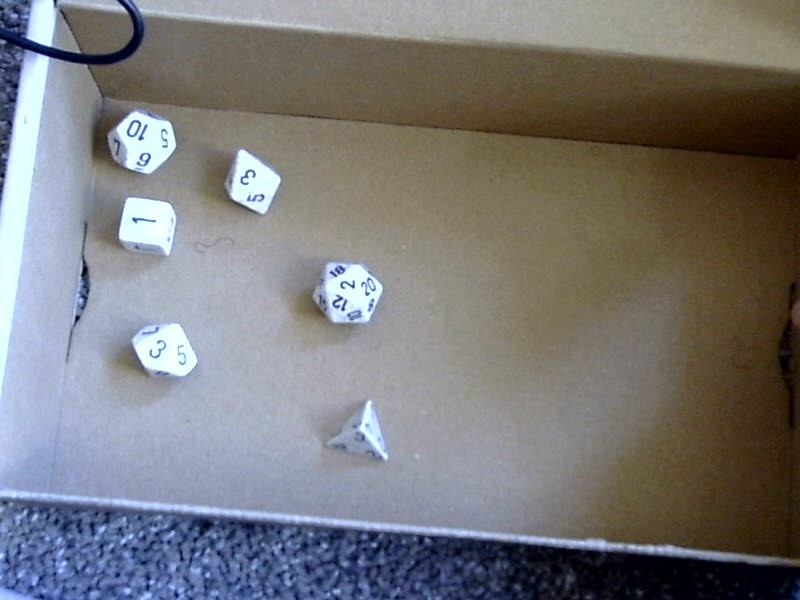d10 3: (125, 314, 206, 382)
d12 10: (99, 104, 179, 178)
d20 2: (309, 256, 384, 331)
d4 3: (322, 392, 393, 465)
d6 1: (114, 192, 179, 263)
d8 3: (220, 144, 284, 221)
